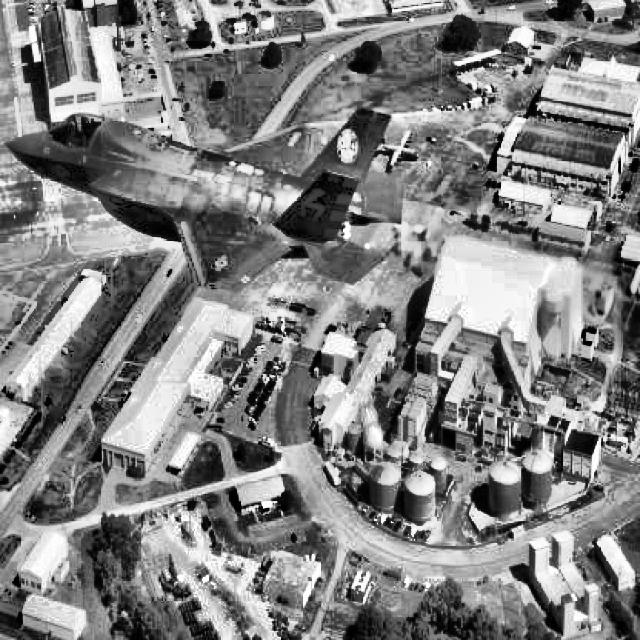C130: (377, 129, 418, 168)
F35: (5, 106, 403, 294)
